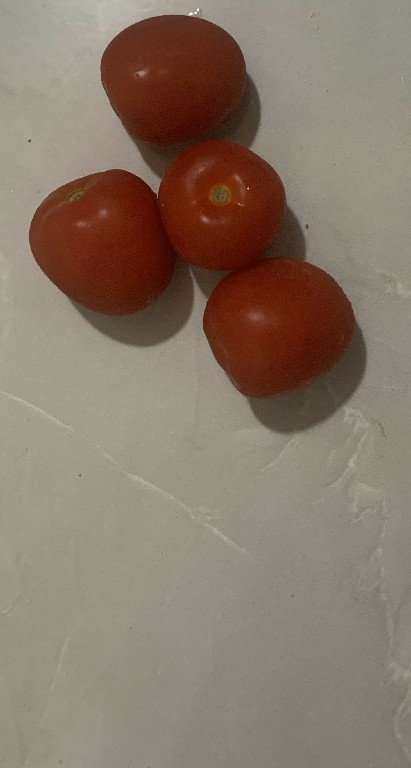OK: (98, 11, 259, 142), (33, 167, 169, 317), (202, 257, 354, 390), (163, 145, 290, 266)
